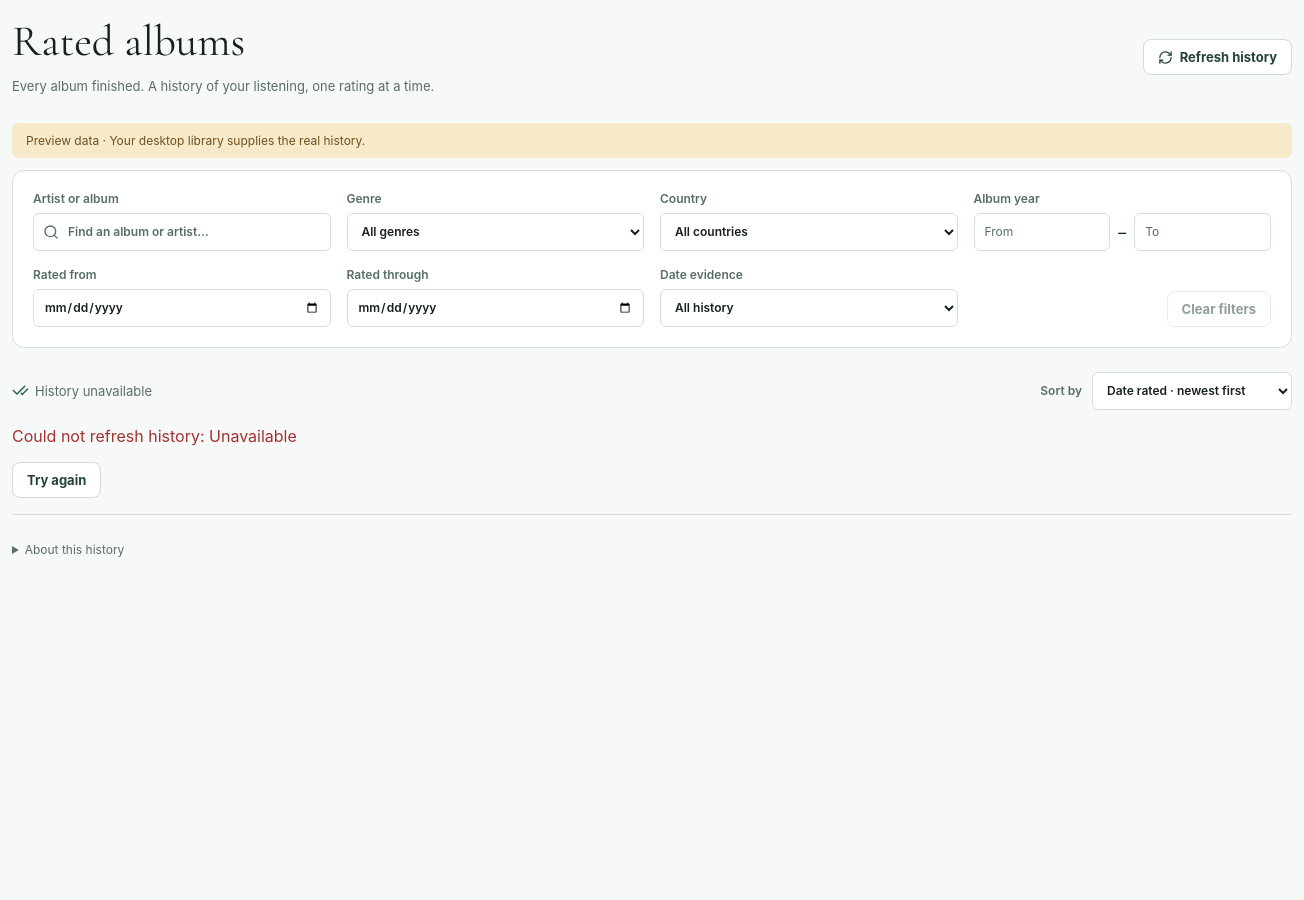
explains an empty library and exposes a recoverable initial failure
Expected: the message "Could not refresh history: Unavailable Try again" is shown, [12,426,297,498]
Expected: the text "Your next finished album starts here" is not shown
Click the button "Try again". click: (57, 480)
box: [12,462,101,498]
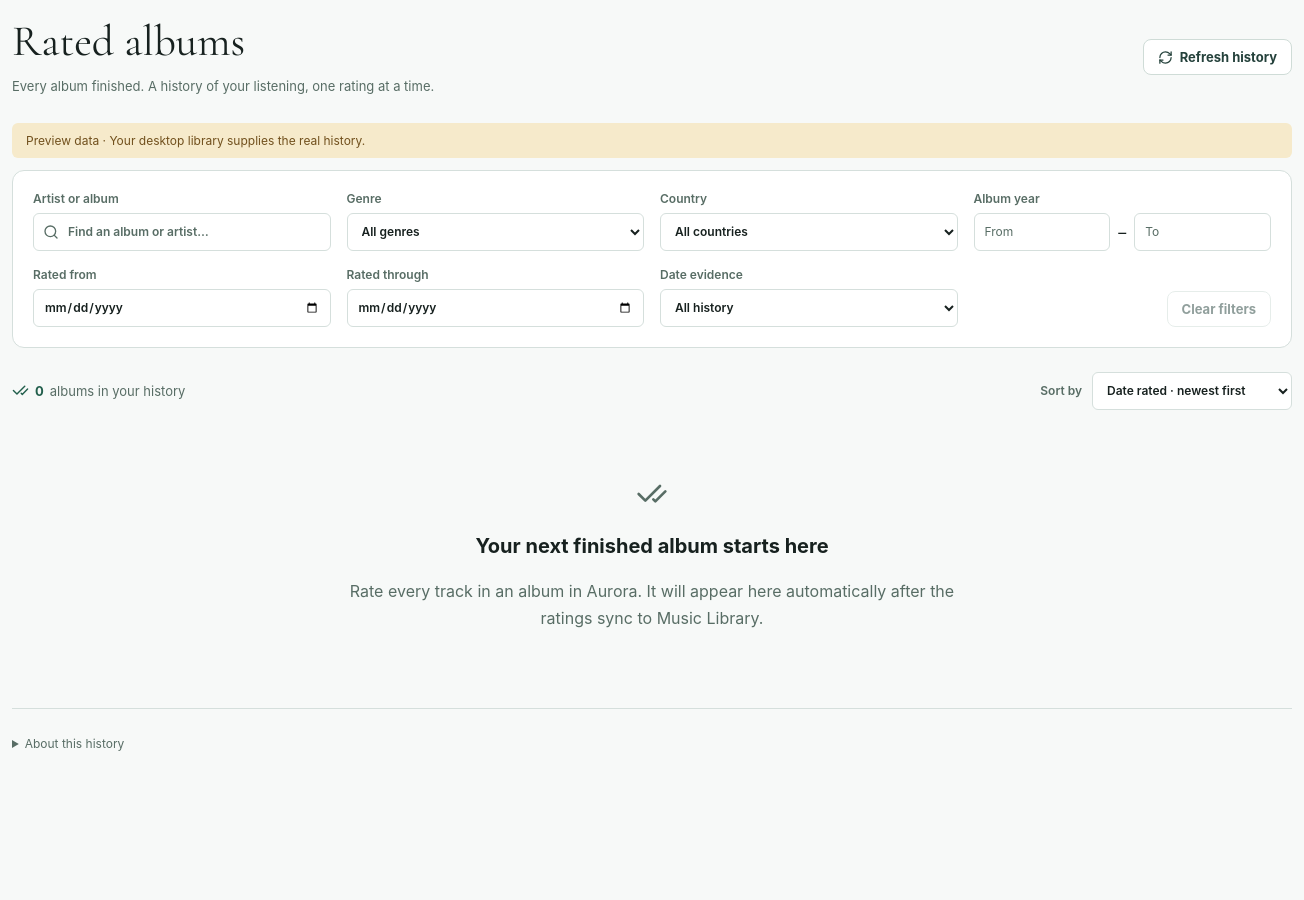
Now the heading "Your next finished album starts here" is shown, box [475,534,829,558]
